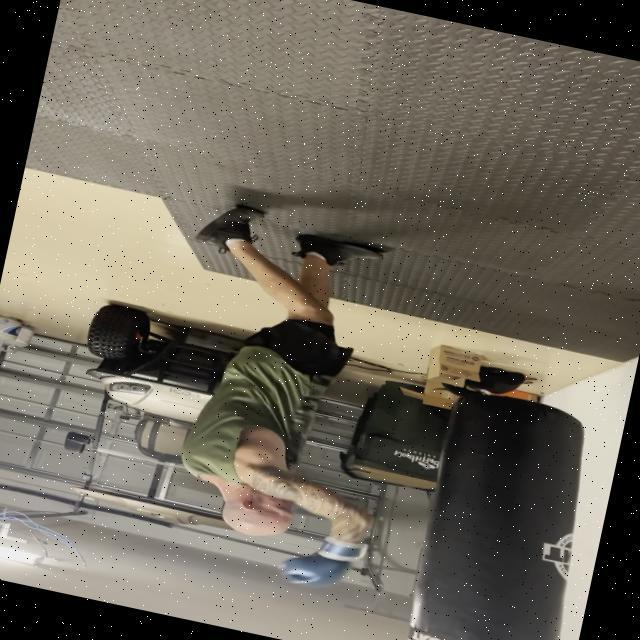bag: (395, 382, 600, 640)
uppercut: (148, 422, 402, 600)
